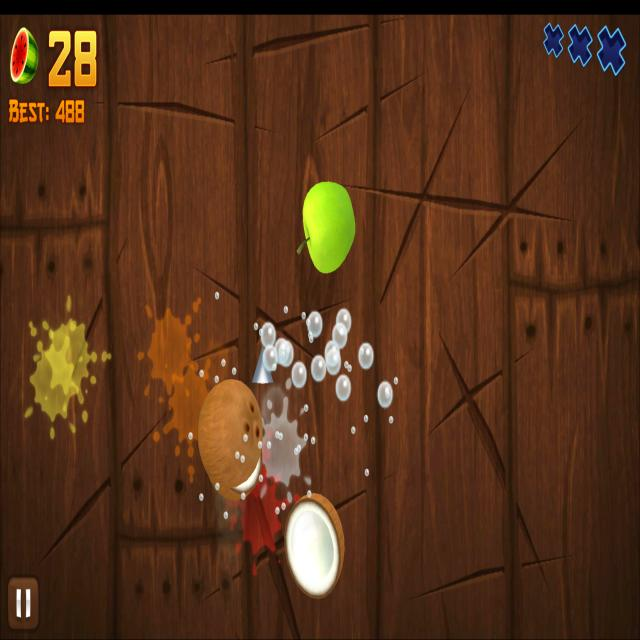fruit: (199, 380, 264, 500), (302, 182, 356, 273)
